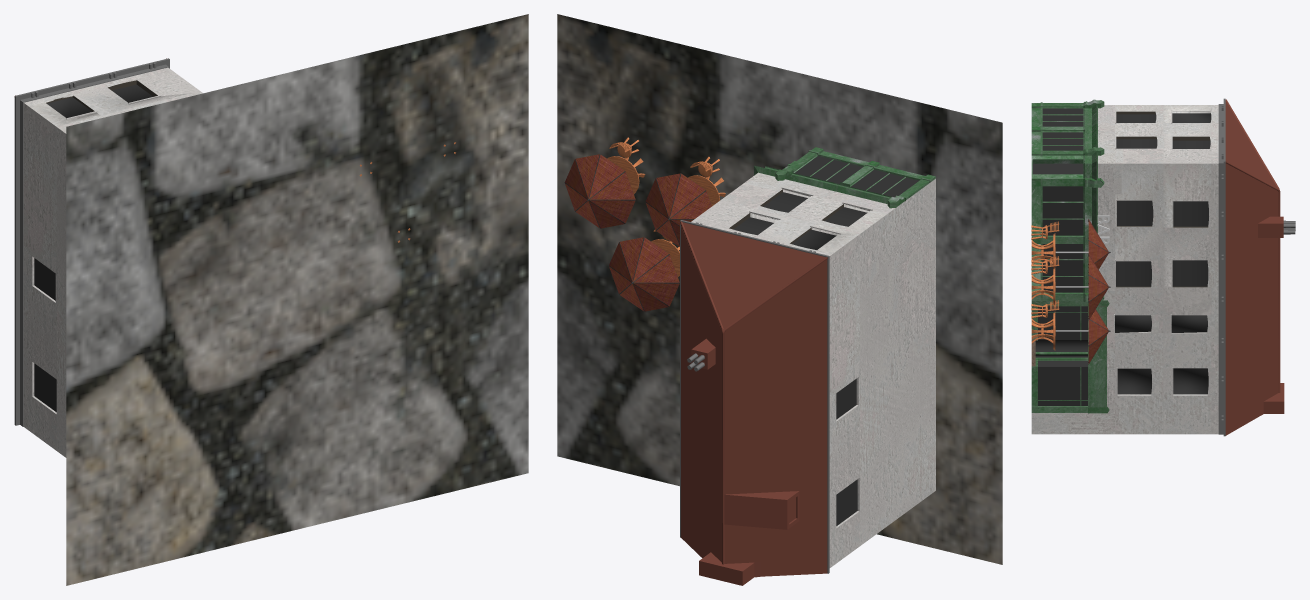
The model's file is BarRotated.fbx.
3 renders of one model, left to right at view 1: azimuth 30°, elevation 25°; view 2: azimuth 150°, elevation 25°; view 3: azimuth 270°, elevation 25°, orthographic. The views are drawn at different scales.
Parts seen in each view (by area): view 1: Piano, Edificio; view 2: Piano, Edificio, Tenda.002, Tenda.001, Tenda; view 3: Edificio, Tenda.002, Tenda.001, Tenda, Tevolino.001, Tevolino.002, Tevolino.
Boxes of the visible parts, x1,y1,x2,y2 form: Piano: [66, 14, 528, 585]; Edificio: [14, 58, 202, 457]; Piano: [557, 14, 1002, 564]; Edificio: [680, 147, 935, 585]; Tenda.002: [564, 154, 635, 228]; Tenda.001: [609, 237, 679, 311]; Tenda: [645, 173, 711, 246]; Edificio: [1031, 98, 1295, 436]; Tenda.002: [1055, 254, 1110, 320]; Tenda.001: [1055, 298, 1110, 364]; Tenda: [1055, 219, 1110, 285]; Tevolino.001: [1031, 312, 1055, 350]; Tevolino.002: [1031, 268, 1055, 306]; Tevolino: [1031, 233, 1055, 268].
Size of the model in its own units: 22394 by 21252 by 13269.
